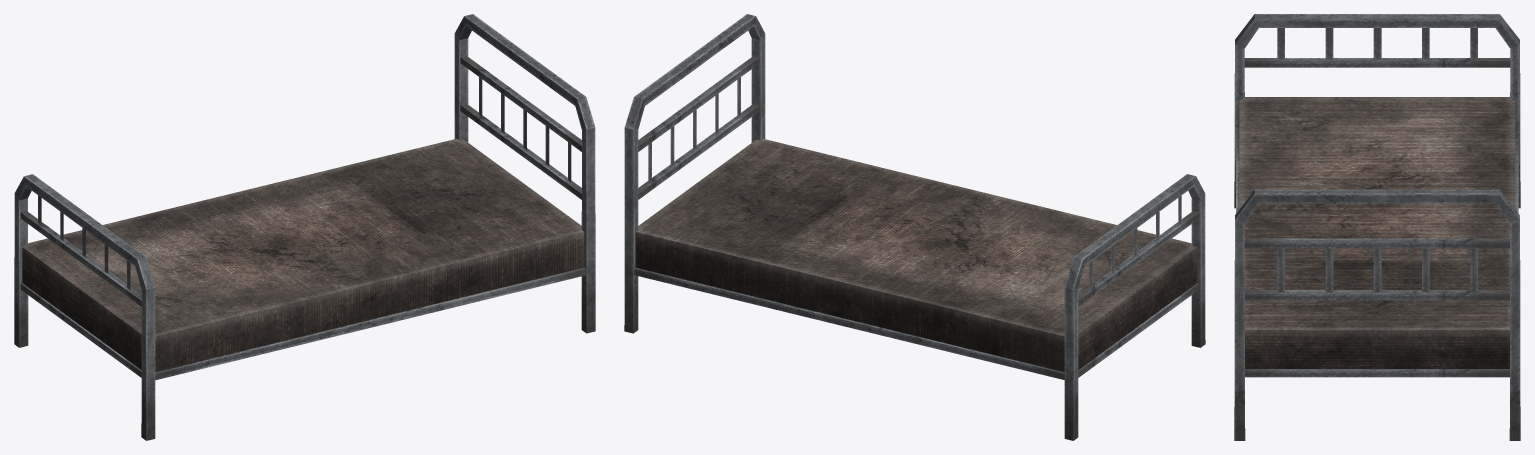
File: Bed.New.fbx
The picture shows the model from 3 angles, left to right: view 1: azimuth 30°, elevation 25°; view 2: azimuth 150°, elevation 25°; view 3: azimuth 270°, elevation 25°; orthographic projection. The views are drawn at different scales.
Visible parts, largest first — view 1: Bed.New; view 2: Bed.New; view 3: Bed.New.
Boxes of the visible parts, x1=… form: Bed.New: x1=14, y1=14, x2=595, y2=440; Bed.New: x1=624, y1=14, x2=1205, y2=440; Bed.New: x1=1234, y1=14, x2=1520, y2=440.
Bounding box in the file's own units: 204 × 98.6 × 104.
